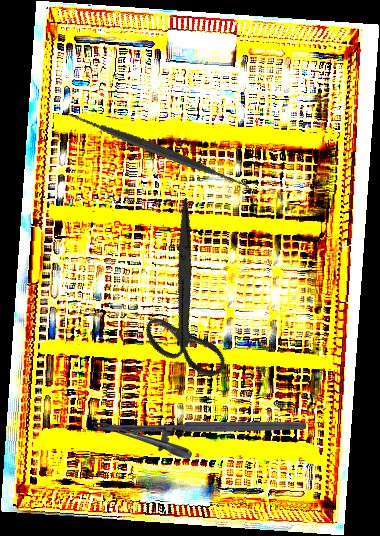Iris Scissors: (94, 197, 278, 396)
Needle Holder: (94, 421, 306, 459)
Spatula Surgical: (64, 56, 253, 245)
